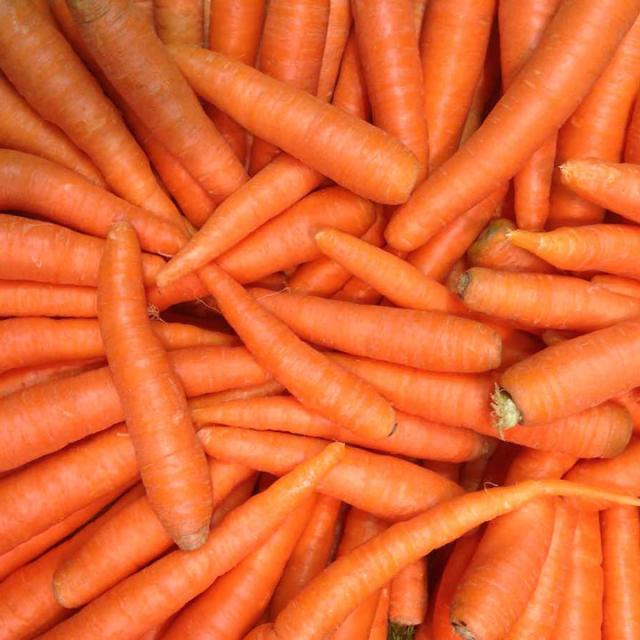Carrot: (102, 229, 227, 552)
